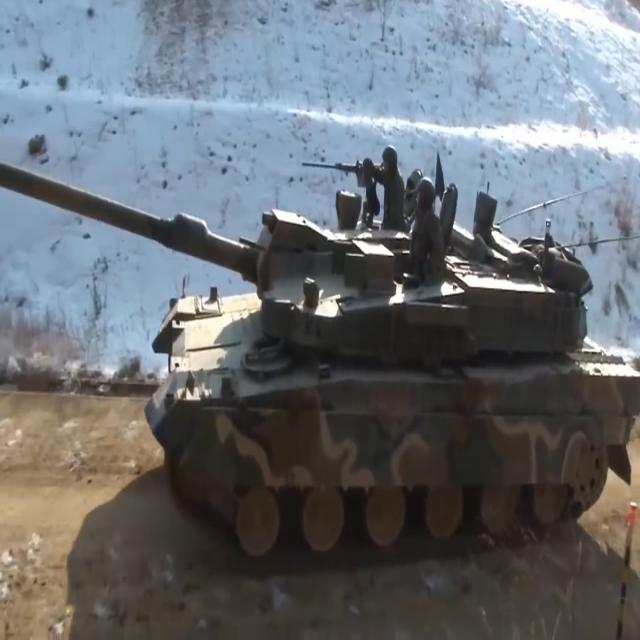korea tank: (0, 144, 640, 571)
